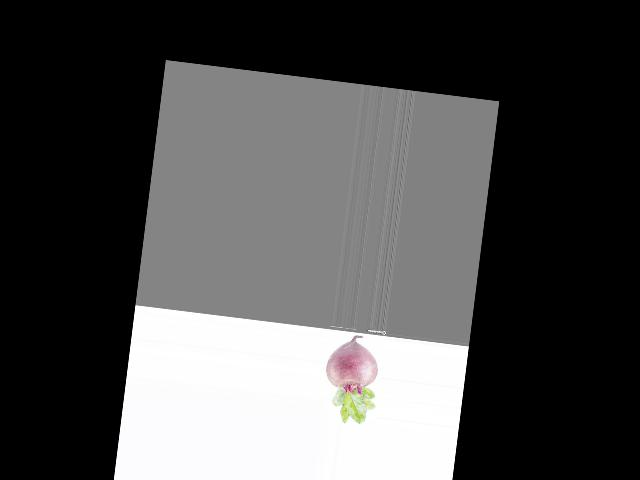beet: (319, 332, 383, 426)
